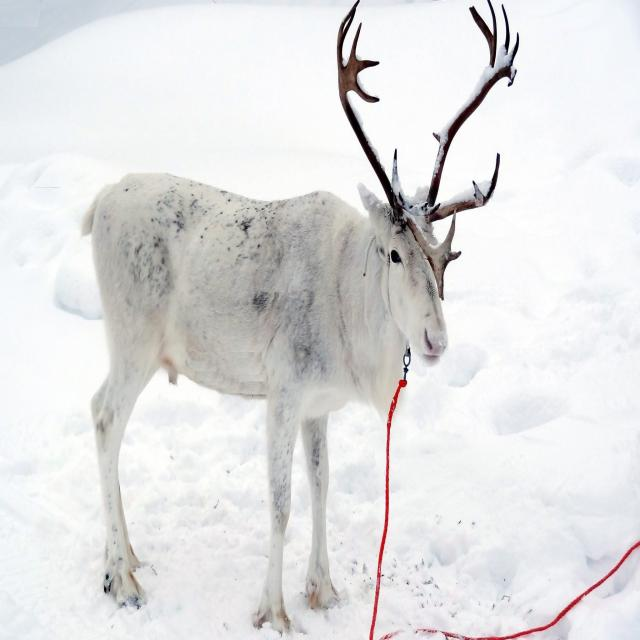Reindeer: (54, 4, 525, 633)
